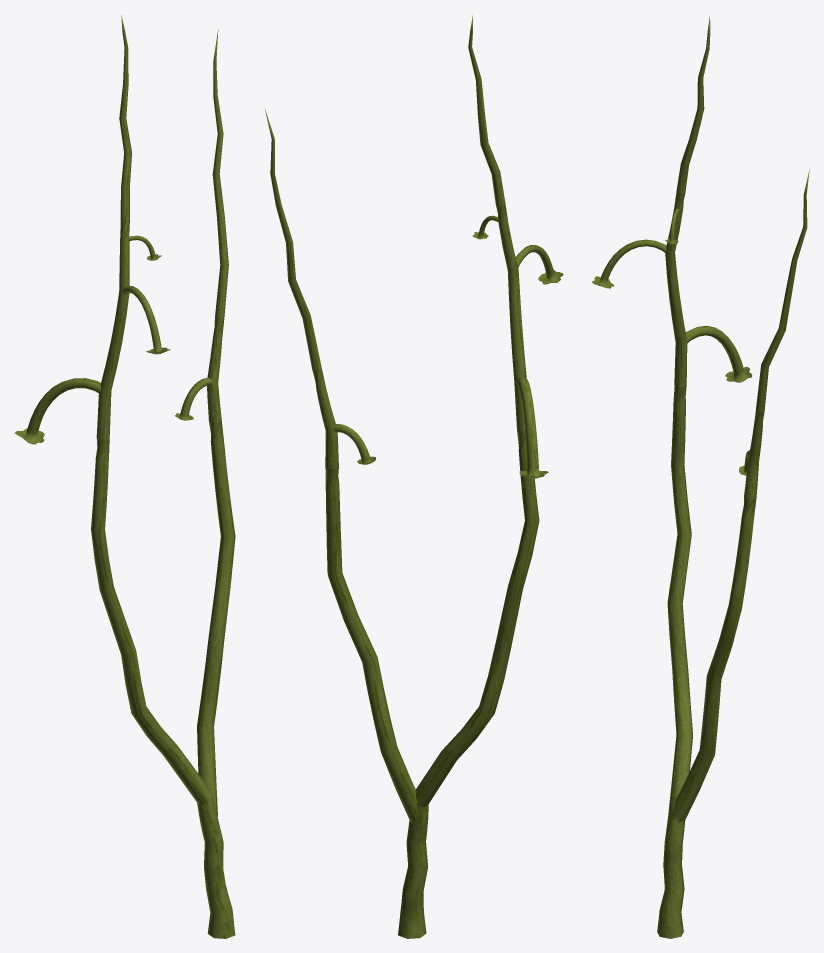
The model's file is VG07_4_stem.dae.
3 views of the same model, side by side, from view 1: azimuth 30°, elevation 25°; view 2: azimuth 150°, elevation 25°; view 3: azimuth 270°, elevation 25° (orthographic). The views are drawn at different scales.
Parts seen in each view (by area): view 1: VG07_025; view 2: VG07_025; view 3: VG07_025.
Boxes of the visible parts, x1,y1,x2,y2 form: VG07_025: (14, 15, 235, 938); VG07_025: (265, 15, 563, 938); VG07_025: (592, 16, 809, 938).
Size of the model in its own units: 7.98 by 6.65 by 29.67.
